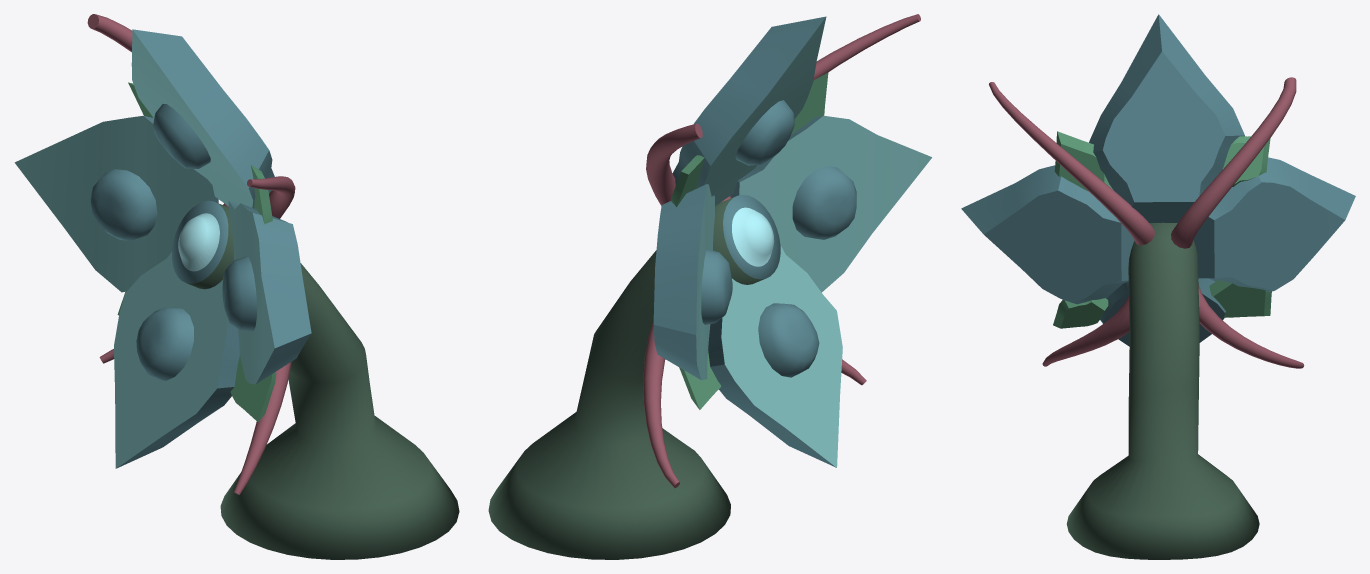
The model's file is SimonSaysPlant.fbx.
3 views of the same model, side by side, from view 1: azimuth 30°, elevation 25°; view 2: azimuth 150°, elevation 25°; view 3: azimuth 270°, elevation 25° (orthographic). The views are drawn at different scales.
Parts seen in each view (by area): view 1: Cylinder, Plane.001, Plane.003, Plane, Plane.002, BezierCurve, Inactive_1, Inactive_4, Inactive_2, Inactive_3, Plane.007, Plane.004; view 2: Cylinder, Plane.003, Plane.002, Plane, Plane.001, BezierCurve, Inactive_3, Inactive_4, Inactive_2, Inactive_1, Plane.004, Plane.006 (+1 smaller); view 3: Cylinder, Plane, Plane.002, Plane.001, BezierCurve, Plane.006, Plane.003, Plane.004, Plane.007, Plane.005.
Boxes of the visible parts, x1,y1,x2,y2 form: Cylinder: (172, 200, 459, 559); Plane.001: (14, 116, 218, 292); Plane.003: (114, 252, 239, 468); Plane: (131, 29, 274, 208); Plane.002: (228, 200, 311, 384); BezierCurve: (87, 14, 295, 494); Inactive_1: (90, 169, 157, 241); Inactive_4: (136, 307, 193, 380); Inactive_2: (153, 104, 210, 168); Inactive_3: (222, 256, 256, 331); Plane.007: (230, 355, 276, 421); Plane.004: (251, 165, 272, 224); Cylinder: (488, 195, 780, 559); Plane.003: (708, 245, 842, 467); Plane.002: (730, 115, 931, 292); Plane: (672, 16, 826, 205); Plane.001: (653, 184, 714, 380); BezierCurve: (643, 14, 920, 487); Inactive_3: (792, 166, 856, 239); Inactive_4: (758, 303, 819, 377); Inactive_2: (735, 100, 794, 165); Inactive_1: (701, 249, 732, 324); Plane.004: (791, 72, 828, 134); Plane.006: (679, 350, 721, 409); Cylinder: (1066, 222, 1259, 559); Plane: (1089, 14, 1244, 222); Plane.002: (961, 165, 1134, 304); Plane.001: (1193, 157, 1355, 291); BezierCurve: (989, 77, 1304, 368); Plane.006: (1209, 280, 1271, 317); Plane.003: (1100, 278, 1225, 346); Plane.004: (1054, 131, 1112, 191); Plane.007: (1053, 298, 1108, 328); Plane.005: (1222, 136, 1270, 186).
Bounding box in the file's own units: 22.8 × 35.76 × 29.95.
